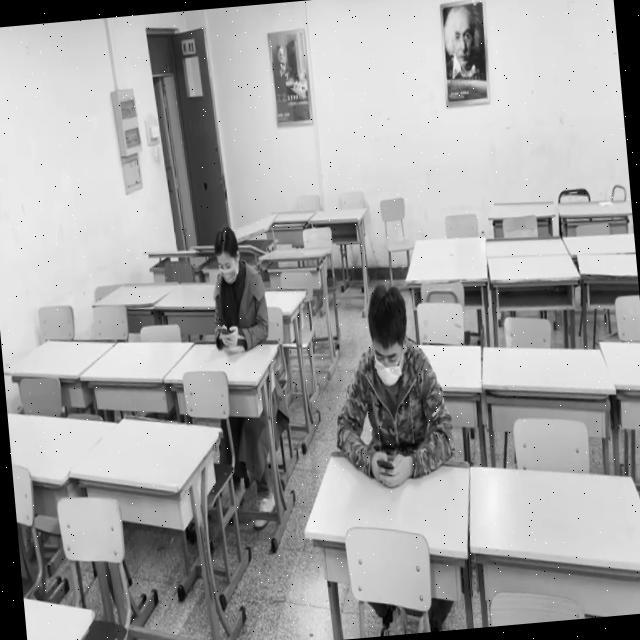phone: (325, 282, 458, 485), (205, 224, 270, 349)
